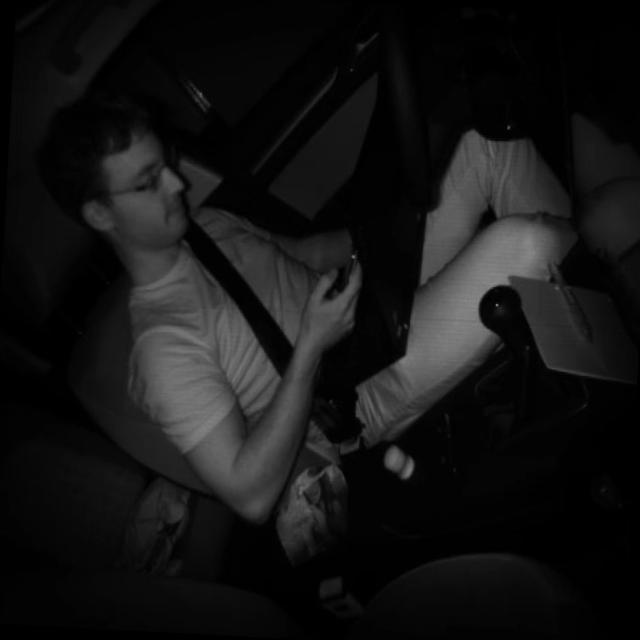pen: (545, 252, 601, 349)
